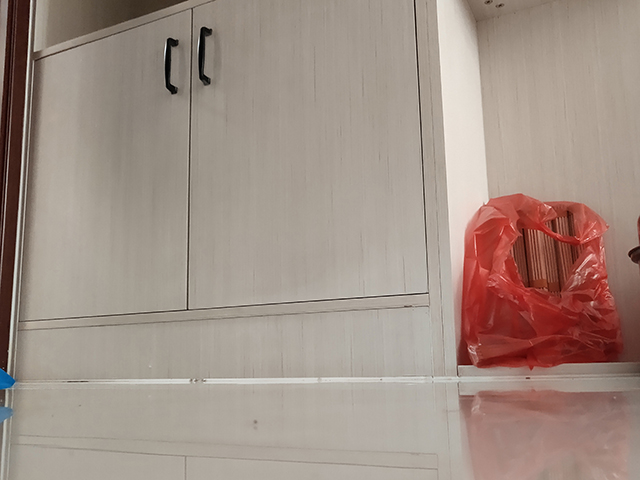cabinet: (1, 1, 453, 374)
